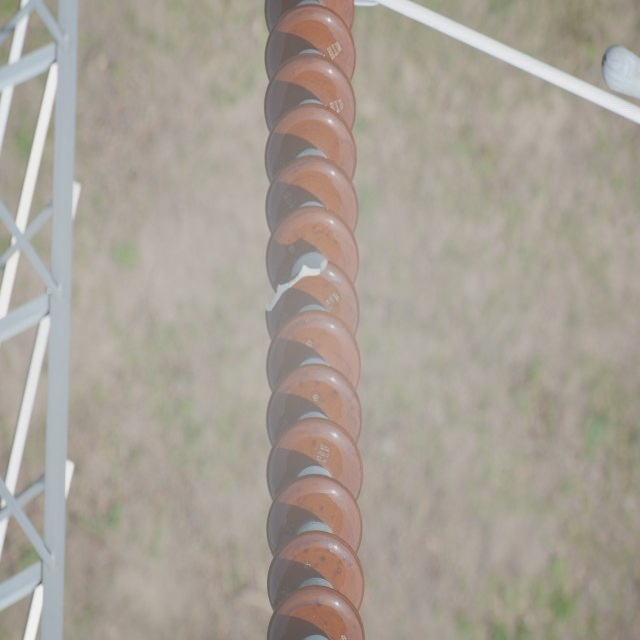broken: (264, 256, 329, 314)
insulator: (262, 0, 368, 636)
